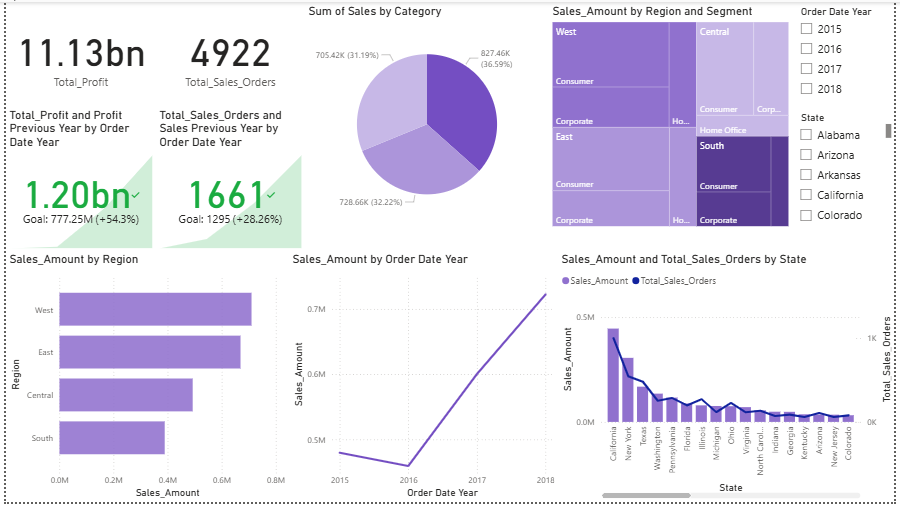

Layout of this report page (visuals, bound fields, positions):
{"tool":"powerbi","page":{"name":"Page 1","canvas":[1280,720],"ordinal":0},"visuals":[{"type":"clusteredBarChart","fields":{"Category":["train.Region"],"Y":["train.Sales_Amount"]},"box":[0,360,407.5,360],"z":0},{"type":"treemap","fields":{"Group":["train.Region"],"Details":["train.Segment"],"Values":["train.Sales_Amount"]},"box":[781.9,2.9,349.9,325.4],"z":1000},{"type":"lineClusteredColumnComboChart","fields":{"Category":["train.State"],"Y":["train.Sales_Amount"],"Y2":["train.Total_Sales_Orders"]},"box":[794.9,360,485.3,360],"z":2000},{"type":"pieChart","fields":{"Category":["train.Category"],"Y":["Sum(train.Sales)"]},"box":[430.6,2.9,351.4,325.4],"z":3000},{"type":"lineChart","fields":{"Y":["train.Sales_Amount"],"Category":["train.Order Date Year"]},"box":[407.5,360,387.4,360],"z":4000},{"type":"card","fields":{"Values":["train.Total_Sales"]},"box":[216,0,214.6,152.6],"z":5000},{"type":"card","fields":{"Values":["train.Total_Profit"]},"box":[0,0,216,152.6],"z":6000},{"type":"slicer","fields":{"Values":["train.State"]},"box":[1131.8,152.6,148.3,175.7],"z":7000},{"type":"slicer","fields":{"Values":["train.Order Date Year"]},"box":[1131.8,0,148.3,152.6],"z":8000},{"type":"kpi","fields":{"TrendLine":["train.Order Date Year"],"Indicator":["train.Total_Sales_Orders"],"Goal":["train.Sales Previous Year"]},"box":[216,152.6,214.6,207.4],"z":9000},{"type":"kpi","fields":{"Indicator":["train.Total_Profit"],"TrendLine":["train.Order Date Year"],"Goal":["train.Profit Previous Year"]},"box":[0,152.6,216,207.4],"z":10000}]}

Visuals, with their boxes in screenshot pixels (x1, y1, x2, y2), scaled from the page's 1280x720 canvas onto the 900x508 screenshot:
clusteredBarChart - train.Region x train.Sales_Amount: 0,254,287,507
treemap - train.Region x train.Segment: 550,2,796,232
lineClusteredColumnComboChart - train.State x train.Sales_Amount: 559,254,899,507
pieChart - train.Category x Sum(train.Sales): 303,2,550,232
lineChart - train.Sales_Amount x train.Order Date Year: 287,254,559,507
card - train.Total_Sales: 152,0,303,108
card - train.Total_Profit: 0,0,152,108
slicer - train.State: 796,108,899,232
slicer - train.Order Date Year: 796,0,899,108
kpi - train.Order Date Year x train.Total_Sales_Orders: 152,108,303,254
kpi - train.Total_Profit x train.Order Date Year: 0,108,152,254
